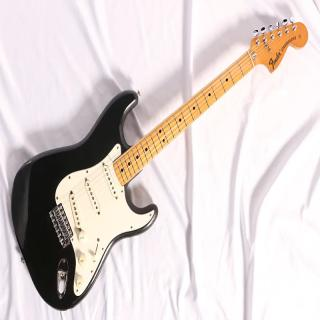Fender Stratocaster: (10, 15, 312, 314)
SSS: (68, 162, 121, 234)
